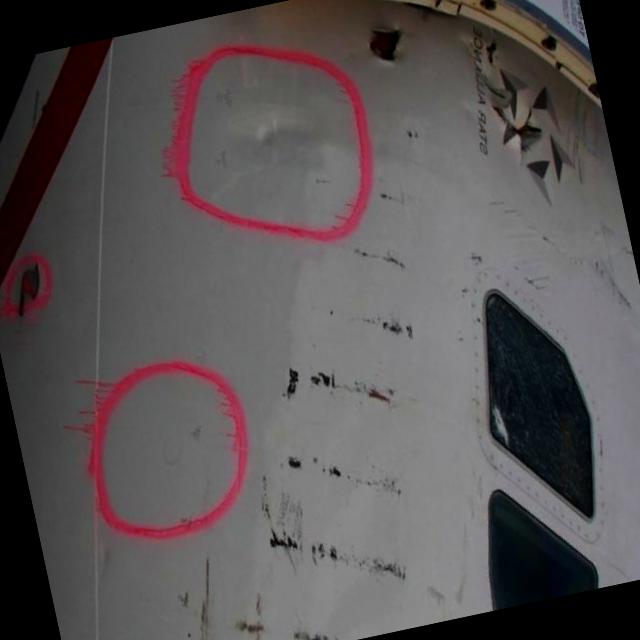crack: (354, 18, 420, 76)
dent: (242, 102, 310, 174)
